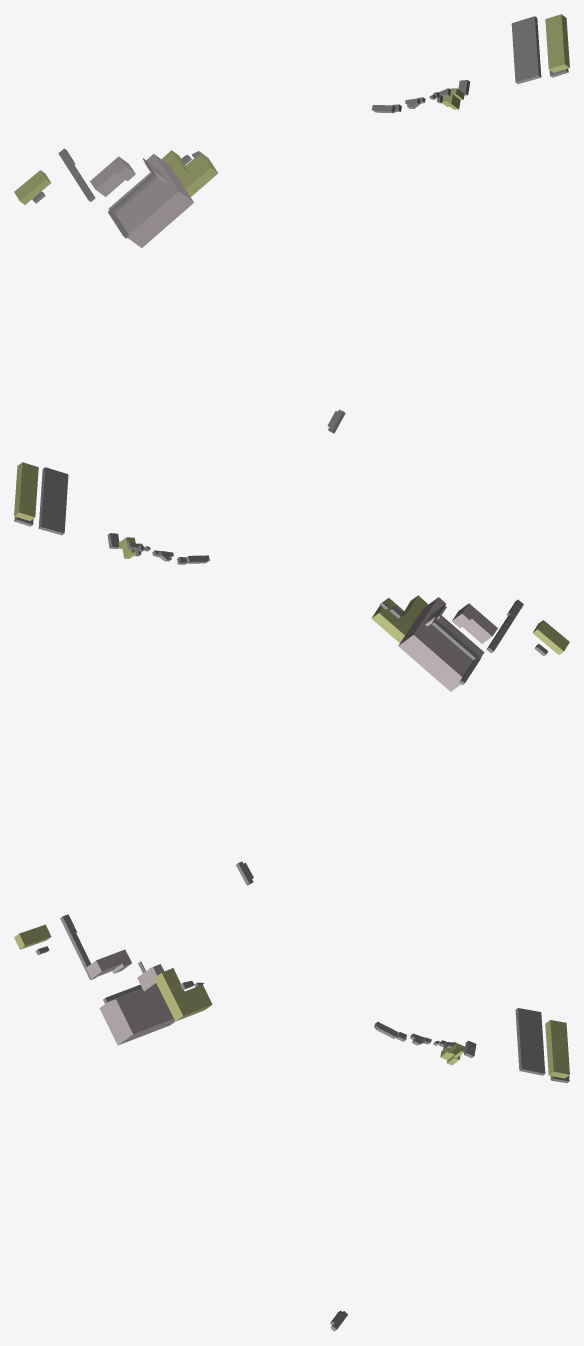
The picture shows the model from 3 angles, top to bottom: view 1: azimuth 30°, elevation 25°; view 2: azimuth 150°, elevation 25°; view 3: azimuth 330°, elevation 25°; orthographic projection.
Parts seen in each view (by area): view 1: 0_1_2_0_0_2; view 2: 0_1_2_0_0_2; view 3: 0_1_2_0_0_2.
Part boxes in pixels (<box>): 0_1_2_0_0_2: <box>14,14,569,433</box>; 0_1_2_0_0_2: <box>14,462,569,885</box>; 0_1_2_0_0_2: <box>14,914,569,1331</box>.
Size of the model in its own units: 370 by 235 by 18.53.
